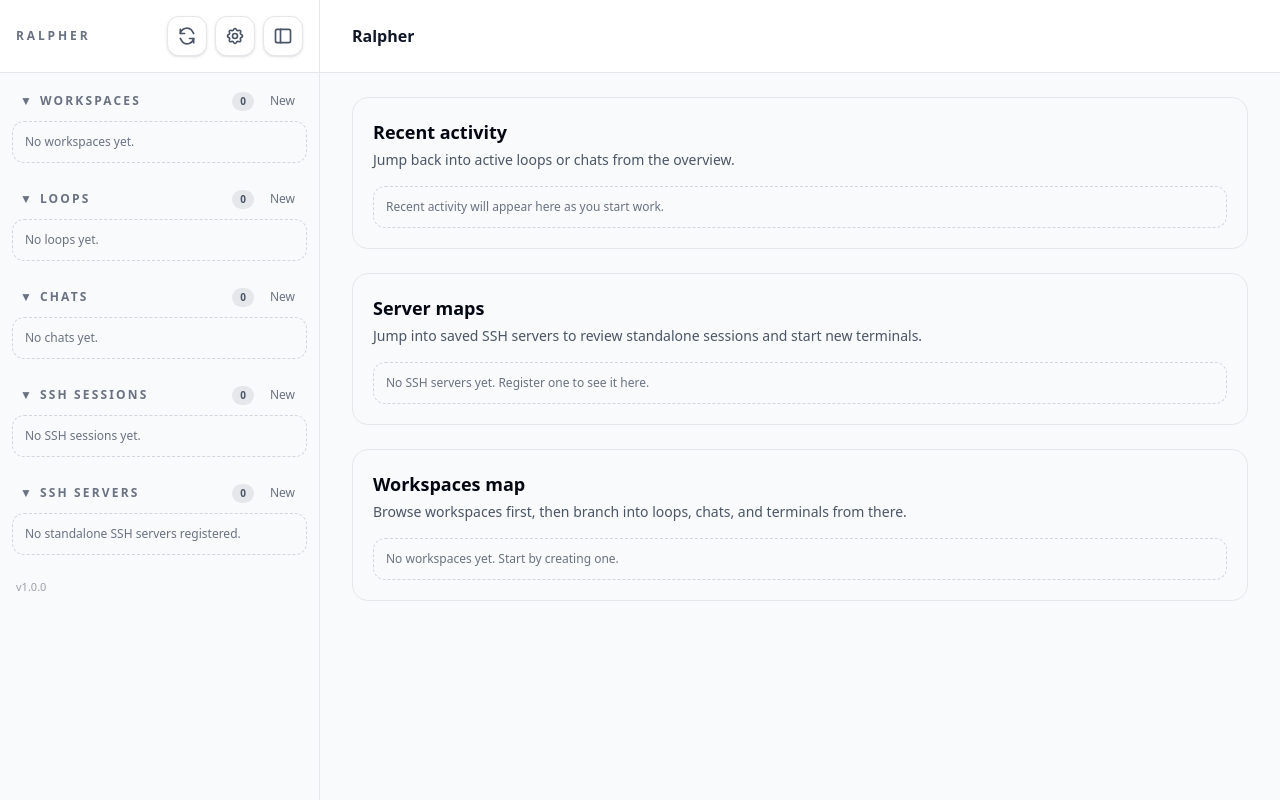
Test: App shell › lets users collapse and expand sidebar sections
Expected: the text "No workspaces yet." is shown, [12,121,307,163]
Click the button with aria-label "Collapse Workspaces section" at (120, 101), box [16,89,224,113]
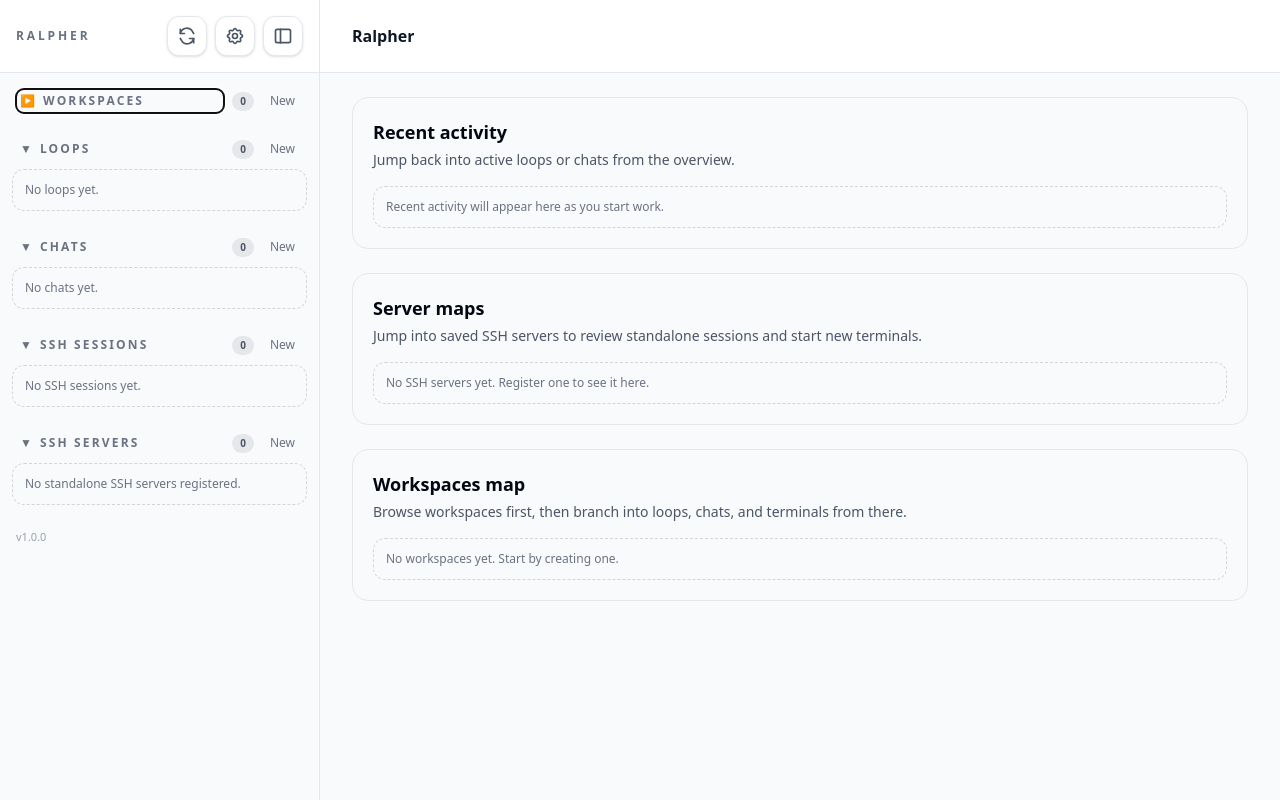
Expected: the button with aria-label "Expand Workspaces section" is shown
Click the button with aria-label "Expand Workspaces section" at (120, 101), box [16,89,224,113]
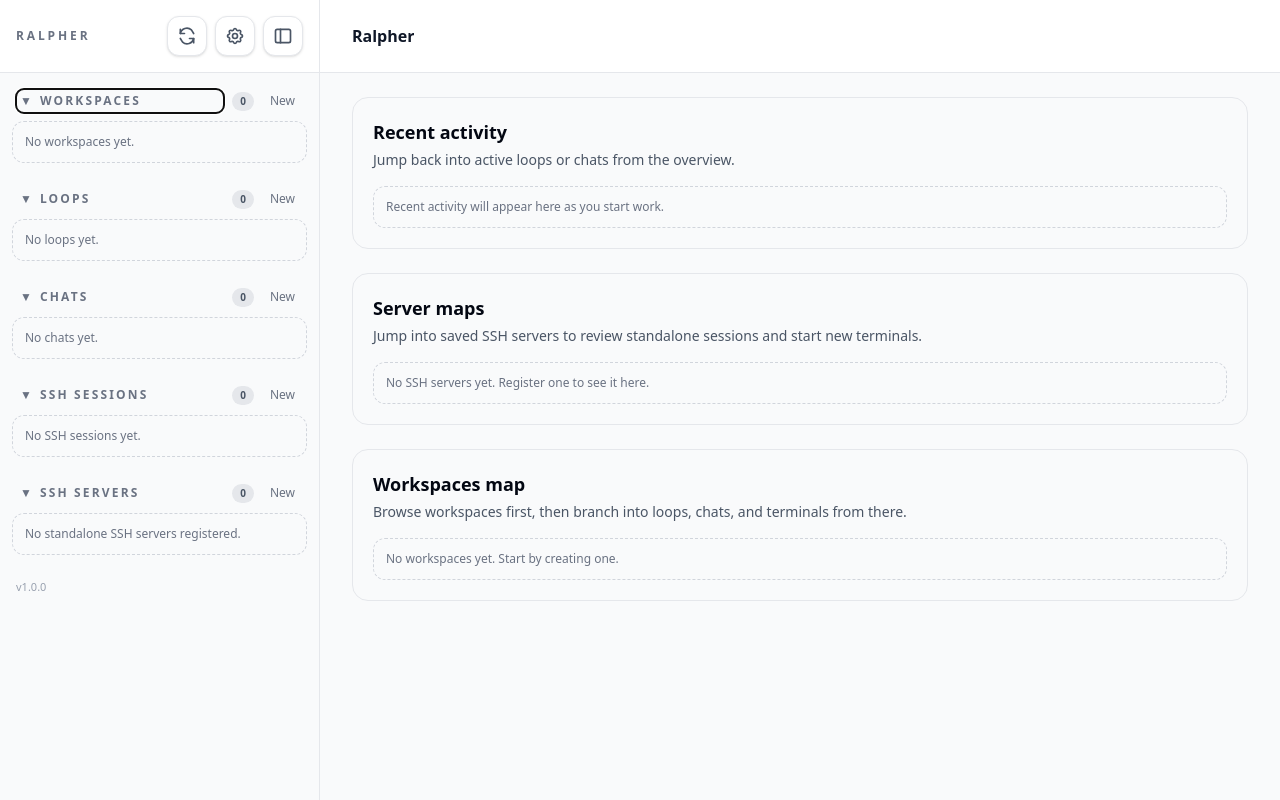
Expected: the button with aria-label "Collapse Workspaces section" is shown, [16,89,224,113]
Expected: the text "No workspaces yet." is shown, [12,121,307,163]
